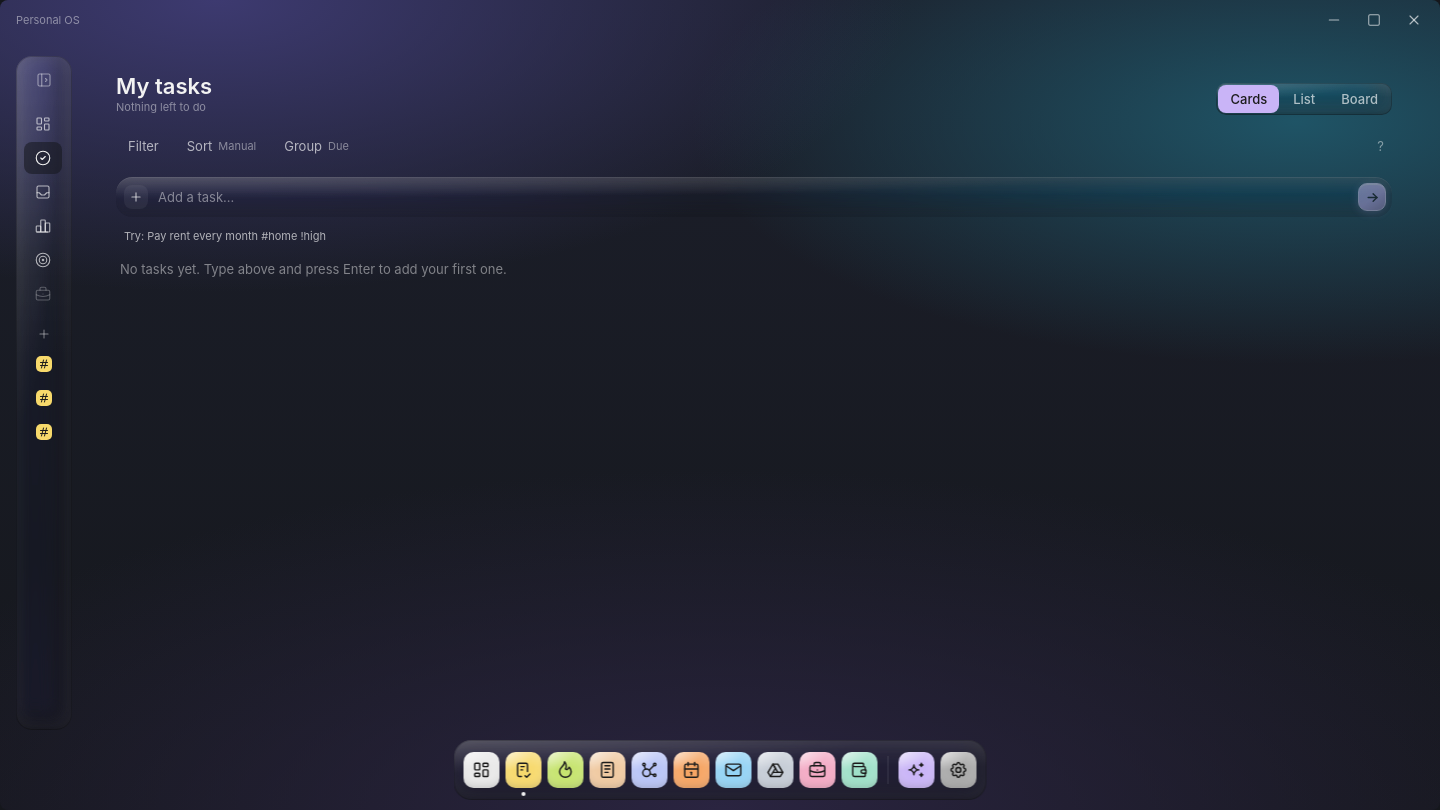
Test case: the Favorites list in the side panel › shows only squares with tooltips when the panel is collapsed, and keeps the + button
Expected: the list named "Favorites" is shown, [36, 356, 52, 440]
Expected: the link named "Alpha" is shown, [36, 356, 52, 372]
Hover over the link named "Beta": [44, 398] box [36, 390, 52, 406]
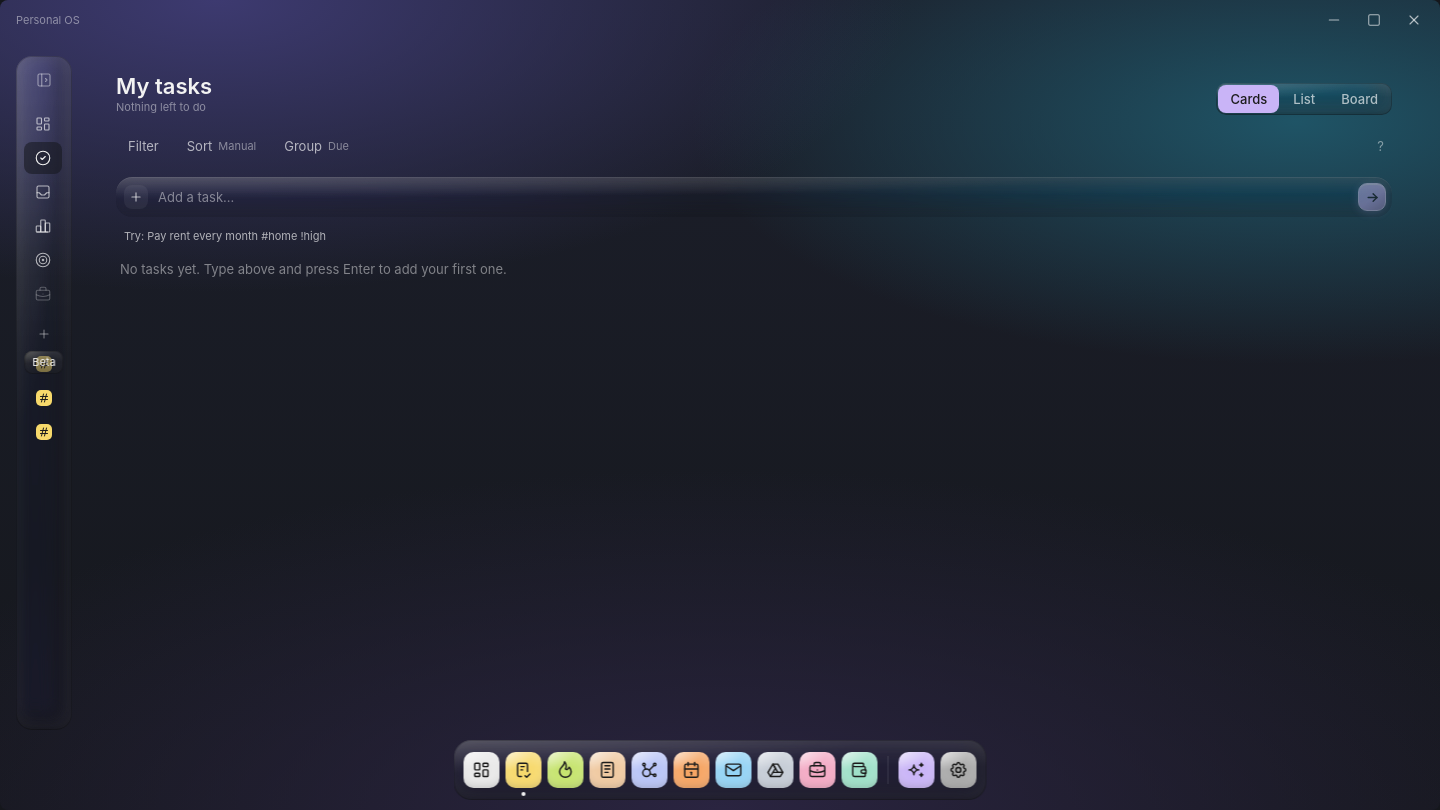
Expected: the tooltip reads "Beta", [32, 355, 56, 369]
